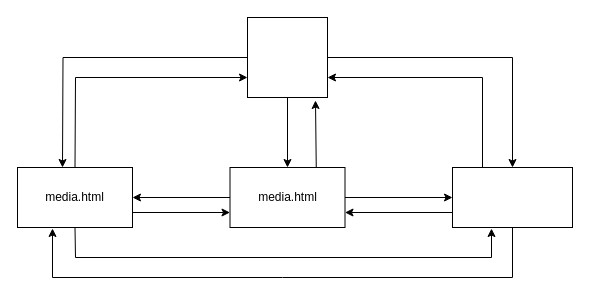
The diagram is 590 pixels wide and 303 high, and some of its shapes have lost their labels. Each missing label, with the centre of its shape:
"about.html" belongs at point (512, 197).
"index.html" belongs at point (287, 57).
